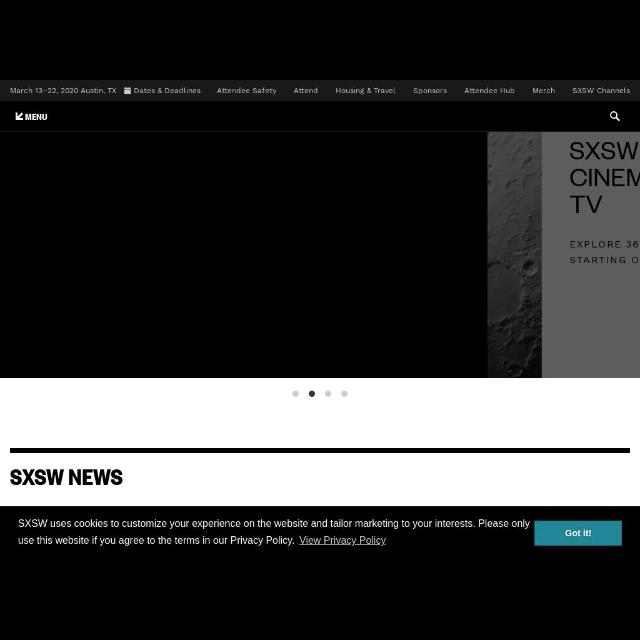backgroundimage: (0, 103, 638, 377)
icon: (608, 110, 622, 122), (609, 111, 621, 123), (14, 113, 24, 121), (124, 87, 132, 95)
iframe: (1, 506, 639, 558)
multitab: (1, 81, 639, 101)
pageindicator: (292, 391, 348, 397)
text: (18, 518, 532, 530), (18, 537, 388, 547), (9, 468, 123, 488), (9, 88, 117, 94), (336, 87, 396, 95), (464, 87, 516, 95), (134, 88, 202, 94), (217, 88, 277, 94), (572, 88, 632, 94), (414, 87, 448, 95), (565, 528, 591, 538), (294, 88, 318, 94), (532, 88, 556, 94), (24, 114, 48, 120)
textbutton: (533, 520, 623, 546), (14, 112, 48, 121)
